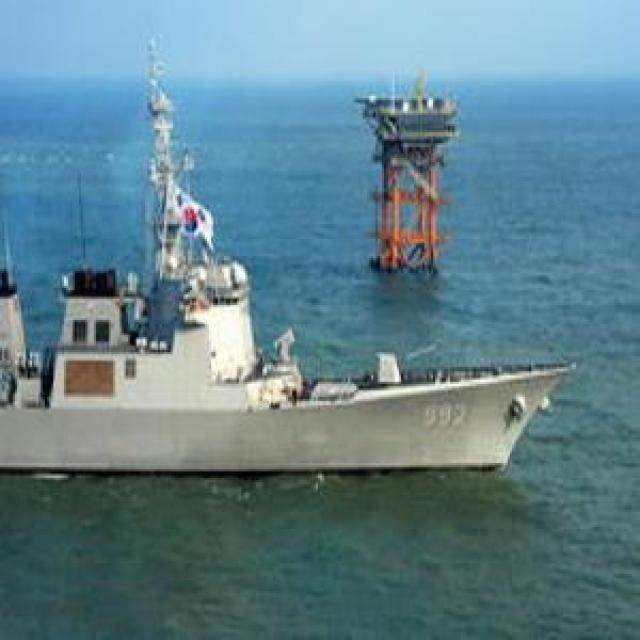navalvessels: (0, 55, 570, 478)
